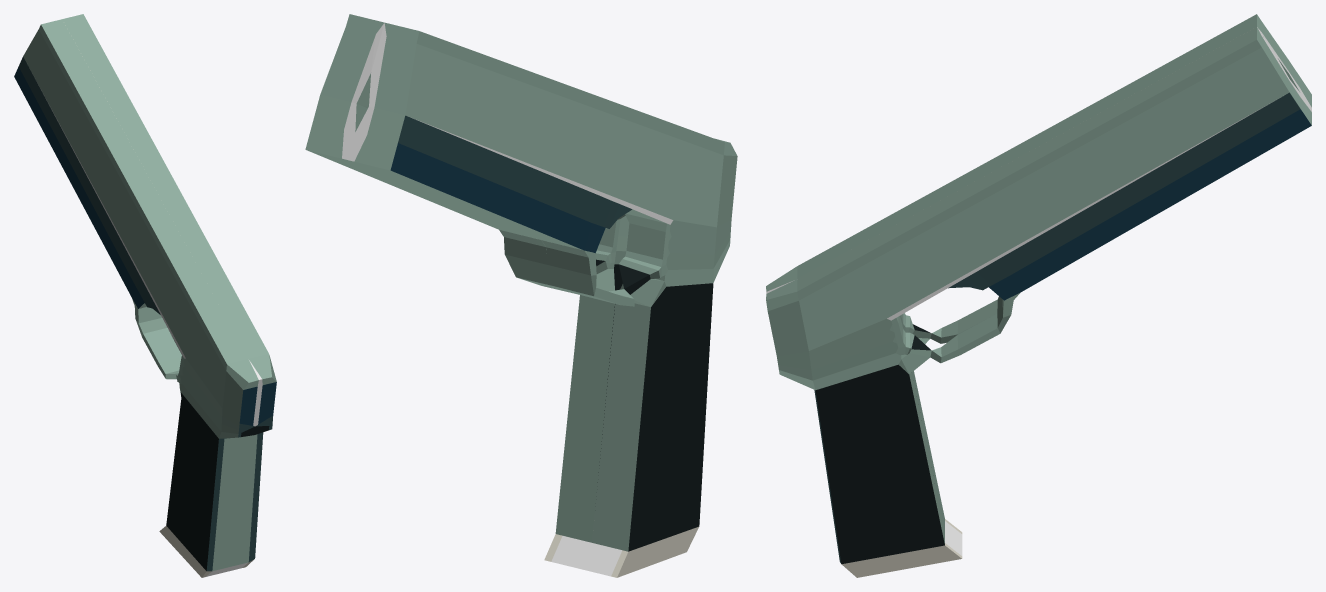
File: gun_conc1.fbx
The picture shows the model from 3 angles, left to right: view 1: azimuth 30°, elevation 25°; view 2: azimuth 150°, elevation 25°; view 3: azimuth 270°, elevation 25°; orthographic projection. The views are drawn at different scales.
Visible parts, largest first — view 1: Cube; view 2: Cube; view 3: Cube.
Boxes of the visible parts, left/top/right/bottom form: Cube: left=14, top=14, right=276, bottom=577; Cube: left=305, top=14, right=737, bottom=577; Cube: left=766, top=14, right=1311, bottom=577.
Bounding box in the file's own units: 28.25 × 222 × 204.
